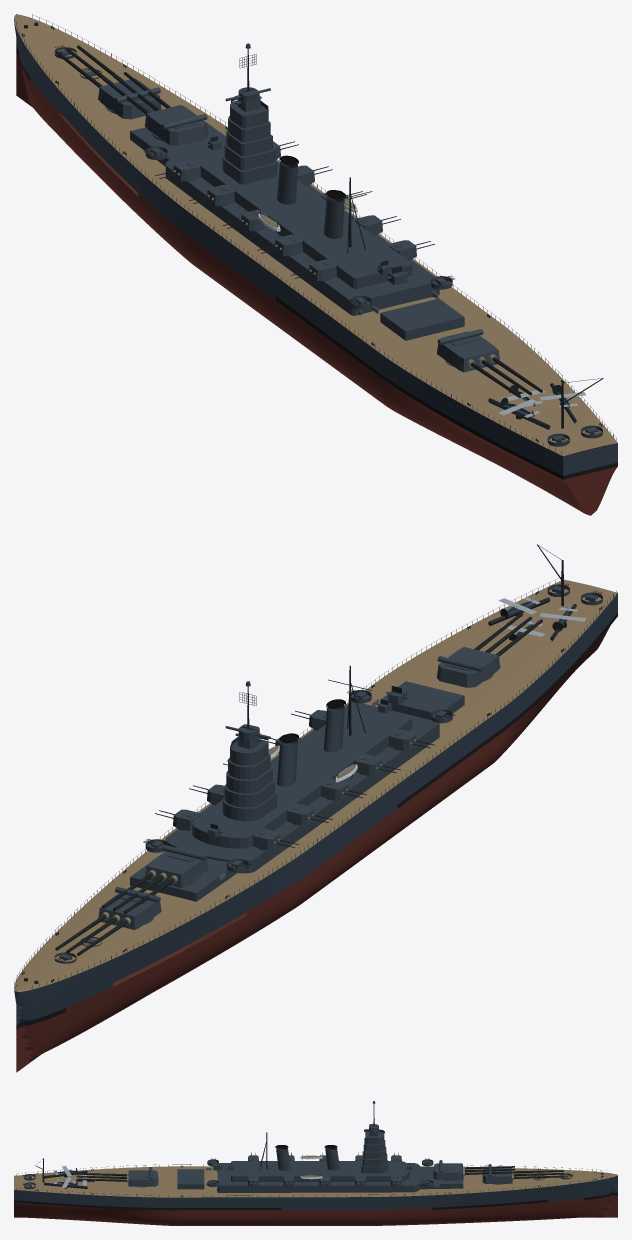
The model's file is iowa.glb.
3 views of the same model, one above another, from view 1: azimuth 30°, elevation 25°; view 2: azimuth 150°, elevation 25°; view 3: azimuth 270°, elevation 25° (orthographic). The views are drawn at different scales.
Visible parts, largest first — view 1: Hull, Turret2, Turret3, Turret1; view 2: Hull, Turret3, Turret2, Turret1; view 3: Hull, Turret3, Turret2, Turret1.
Part boxes in pixels (x1,y1,x2,y2): Hull: [14, 14, 617, 515]; Turret2: [102, 72, 208, 145]; Turret3: [437, 329, 542, 397]; Turret1: [55, 45, 161, 119]; Hull: [14, 544, 617, 1072]; Turret3: [437, 614, 542, 687]; Turret2: [102, 845, 208, 913]; Turret1: [55, 886, 161, 955]; Hull: [14, 1101, 617, 1225]; Turret3: [76, 1167, 158, 1187]; Turret2: [433, 1160, 514, 1180]; Turret1: [482, 1164, 563, 1184].
Size of the model in its own units: 38 by 57.4 by 270.
